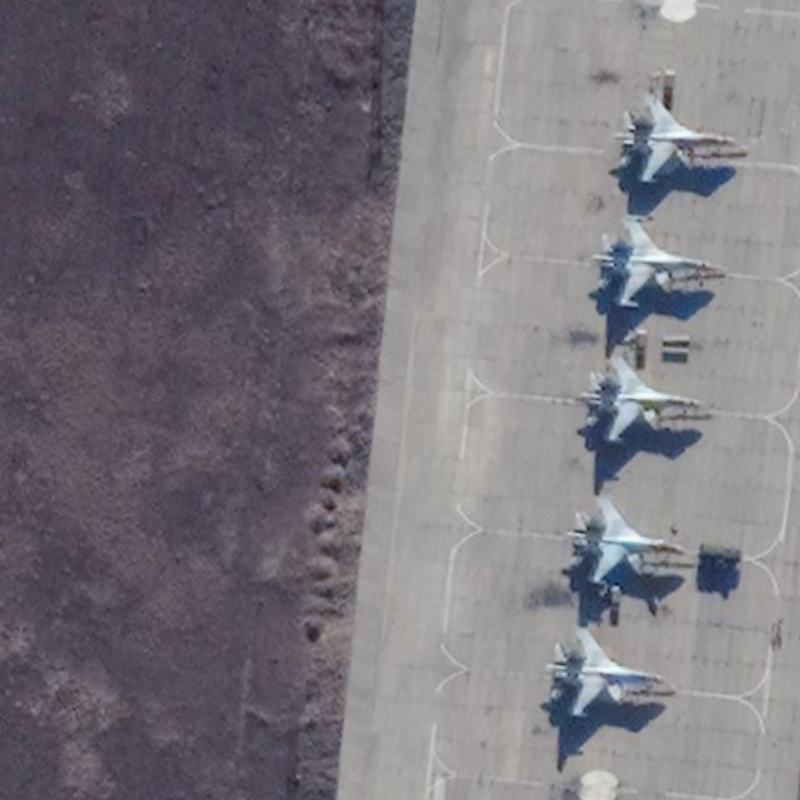A1: (588, 211, 731, 311), (572, 354, 718, 448), (563, 492, 698, 588), (540, 626, 676, 721), (610, 95, 750, 187)
